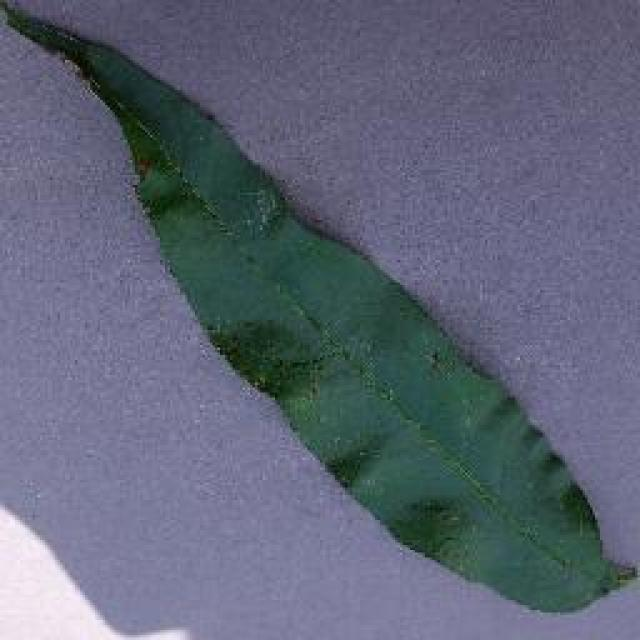Peach_Bacterial_Spot: (44, 42, 308, 263)
